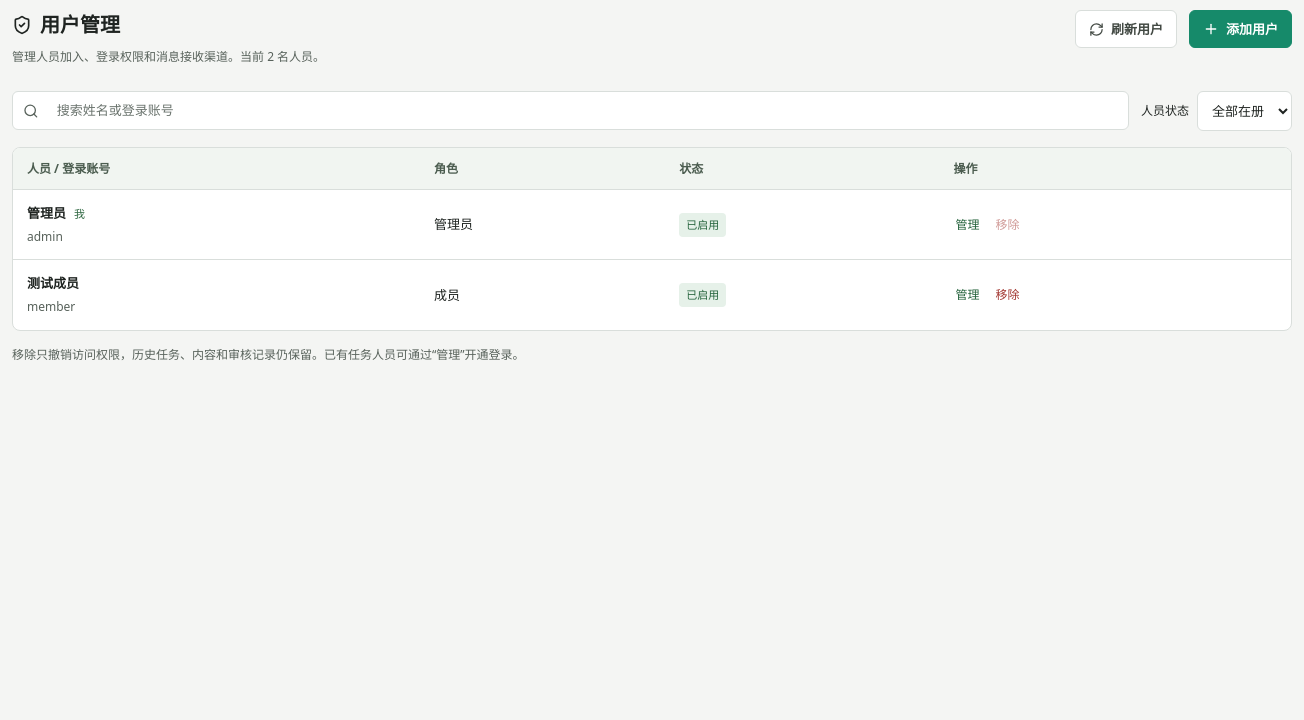
Test: 用户管理 › 保存完成并解除忙碌状态后恢复到添加按钮的键盘焦点
The width and height of the screenshot is (1304, 720).
Expected: the text "测试成员" is shown, x1=27 y1=274 x2=79 y2=292
Click the button with aria-label "管理 测试成员" at (968, 295), box x1=954 y1=279 x2=982 y2=311
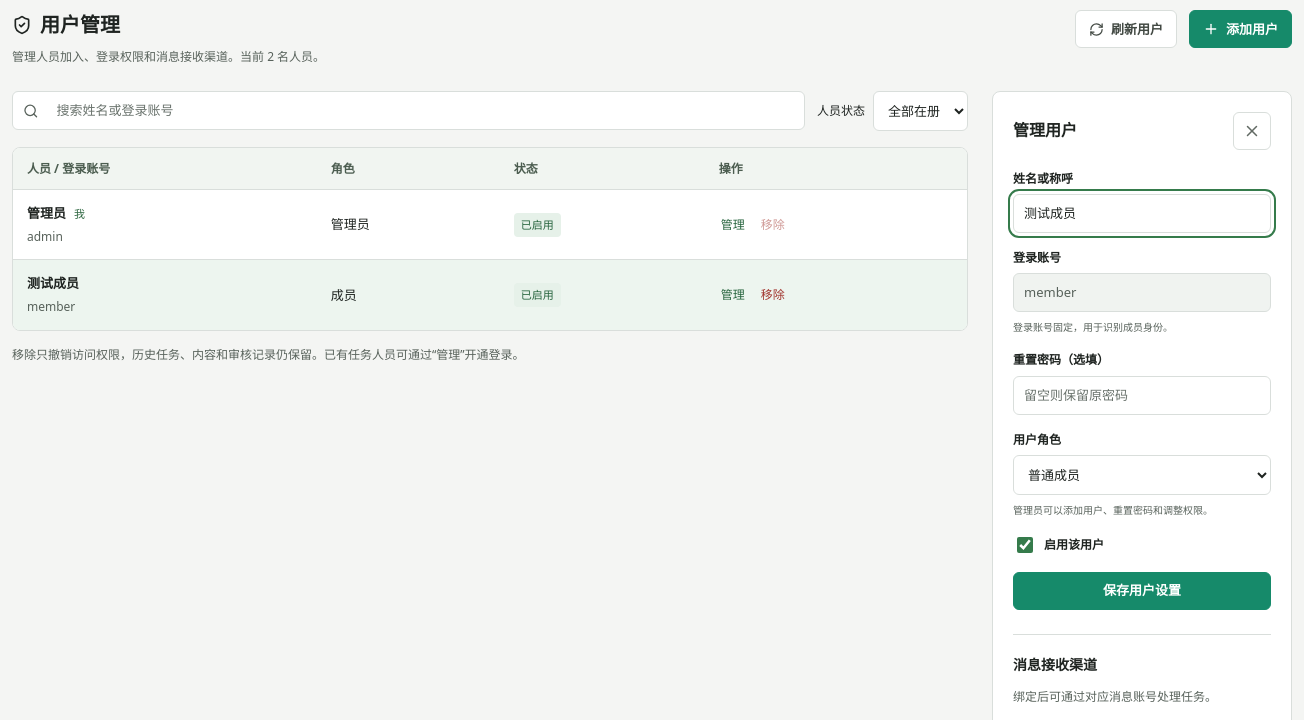
Click the button "保存用户设置" at (1142, 591), box x1=1013 y1=572 x2=1271 y2=610
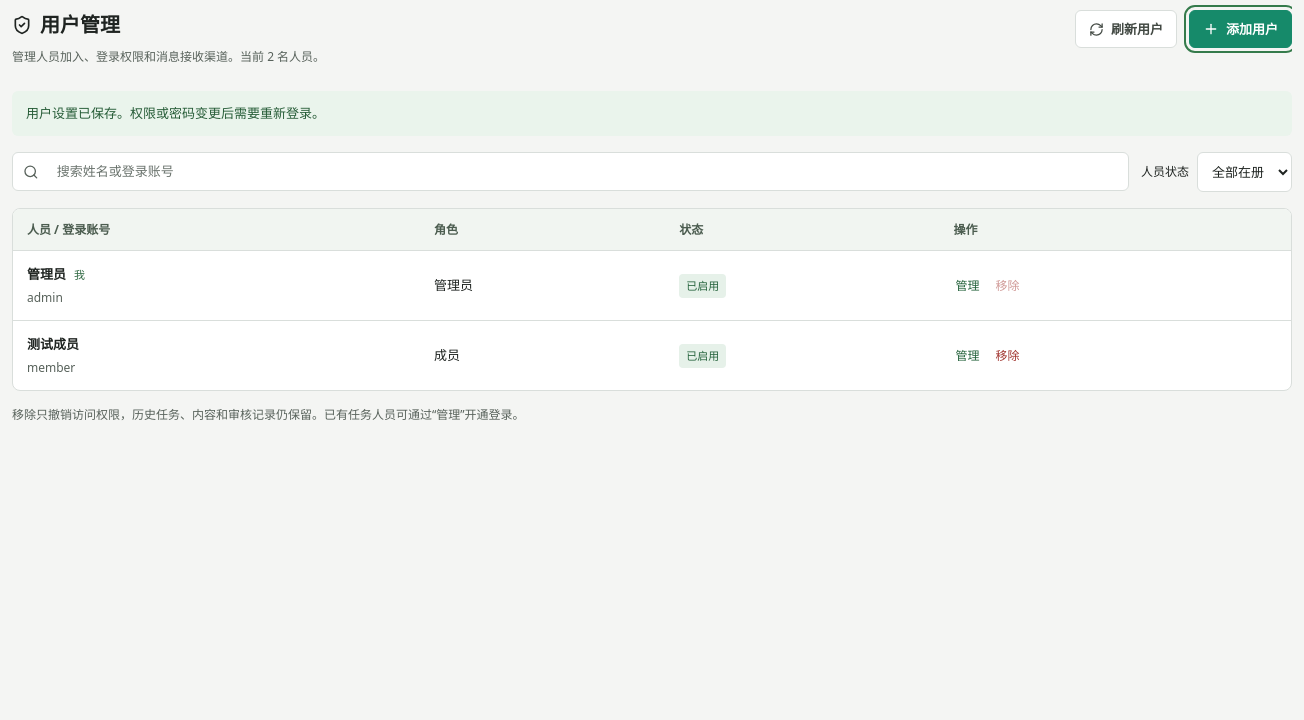
Result: the text labelled "姓名或称呼" is gone
